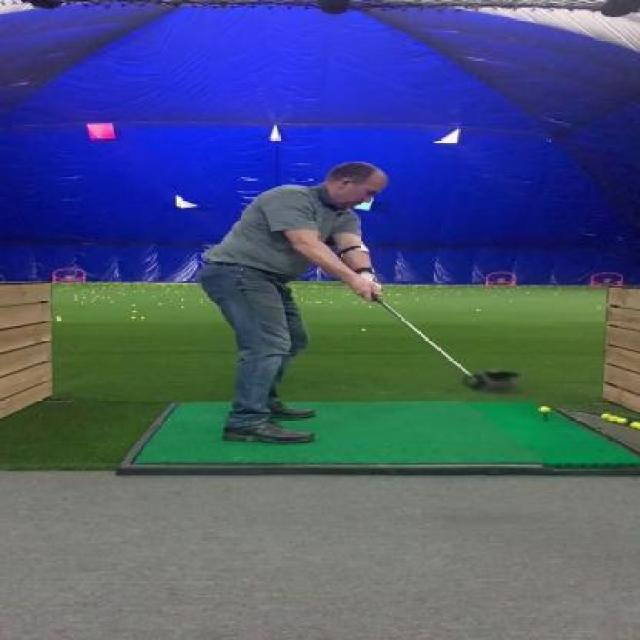club head: (458, 367, 524, 399)
